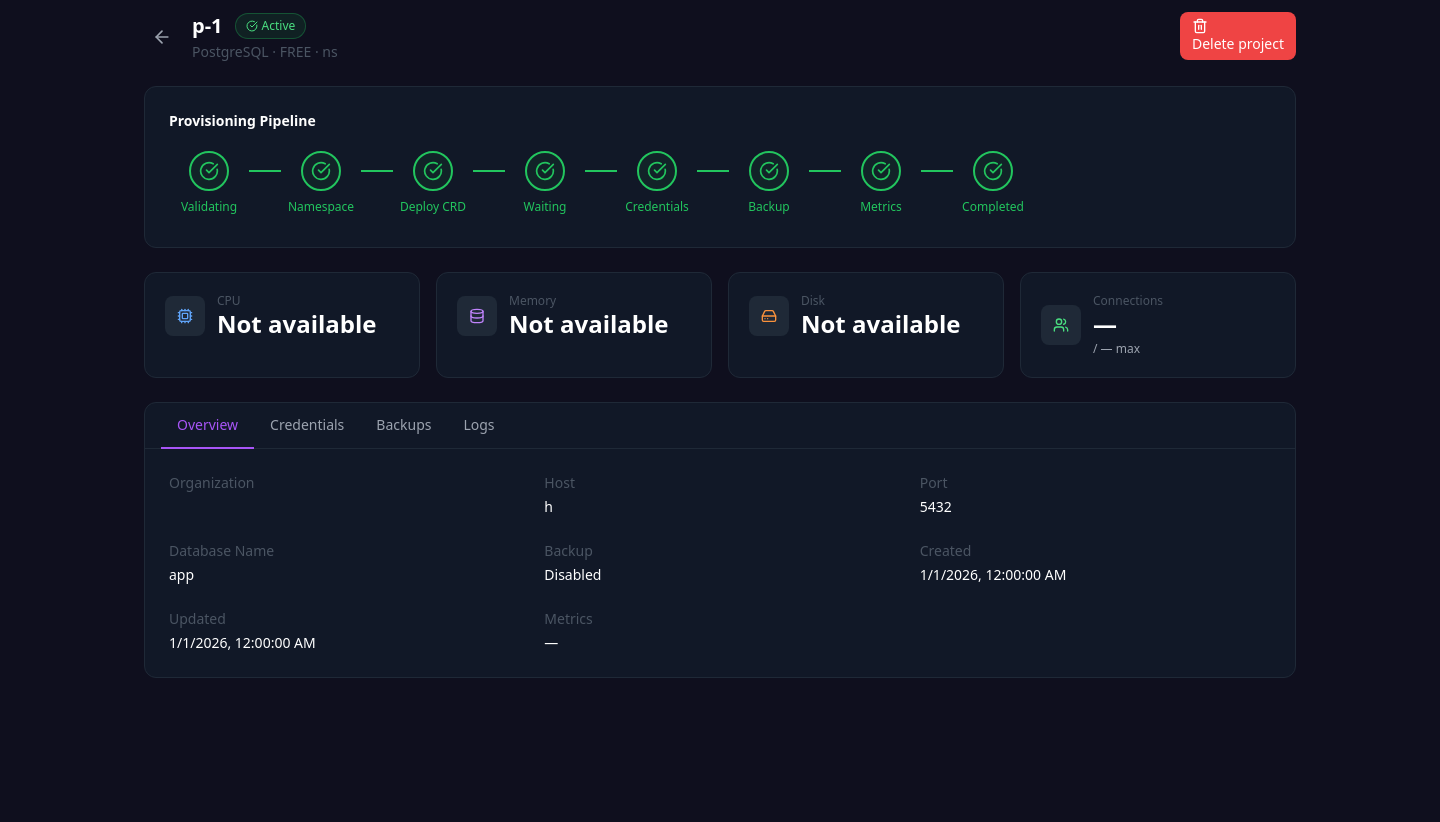
Test: InstanceDetailPage — trigger backup › a refused backup shows the server's reason
This screenshot has width=1440, height=822.
Click the button "backups": x=404, y=426 [360,403,447,449]
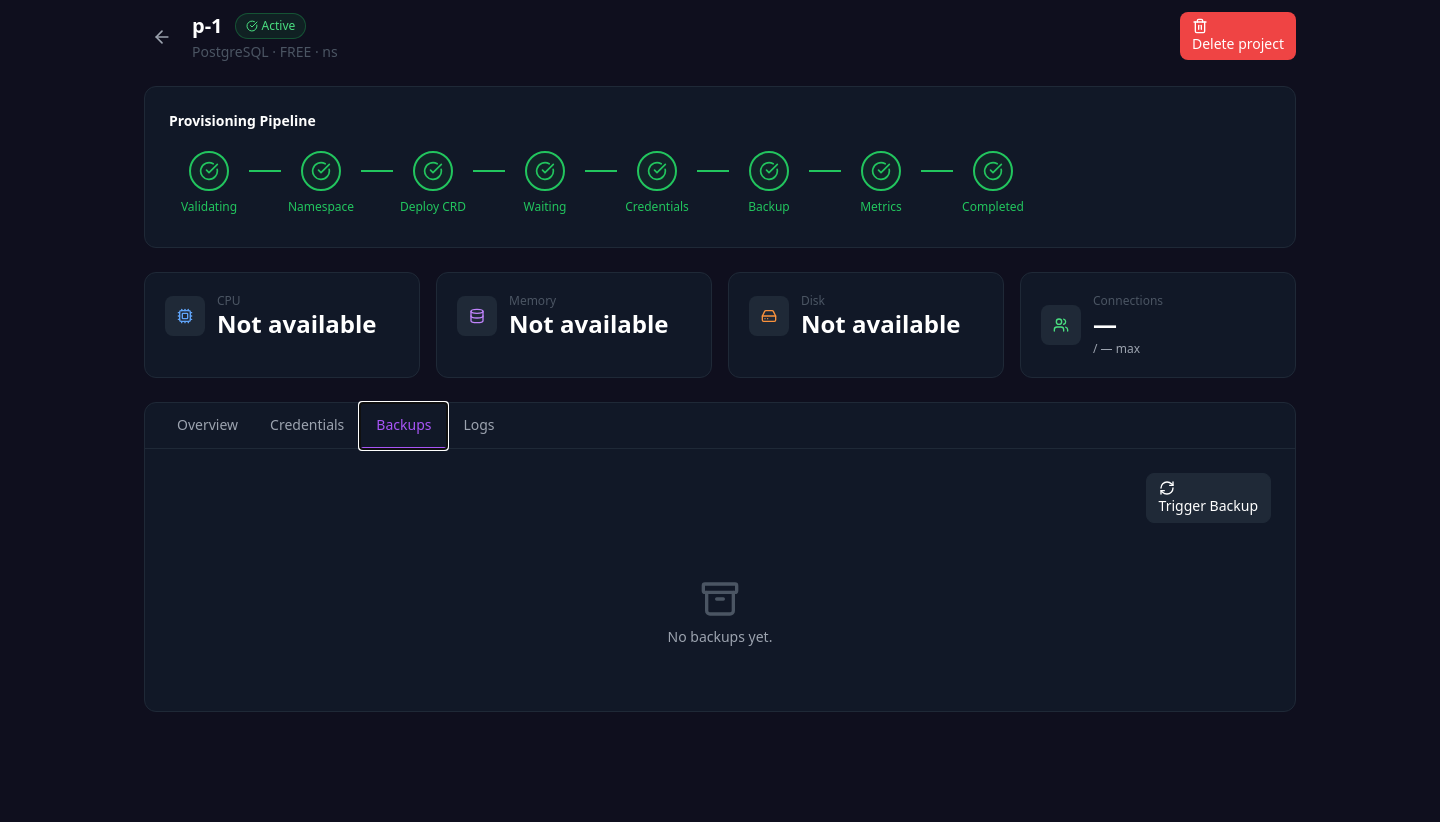
Click the button "Trigger Backup": x=1208, y=498 [1146,473,1271,523]
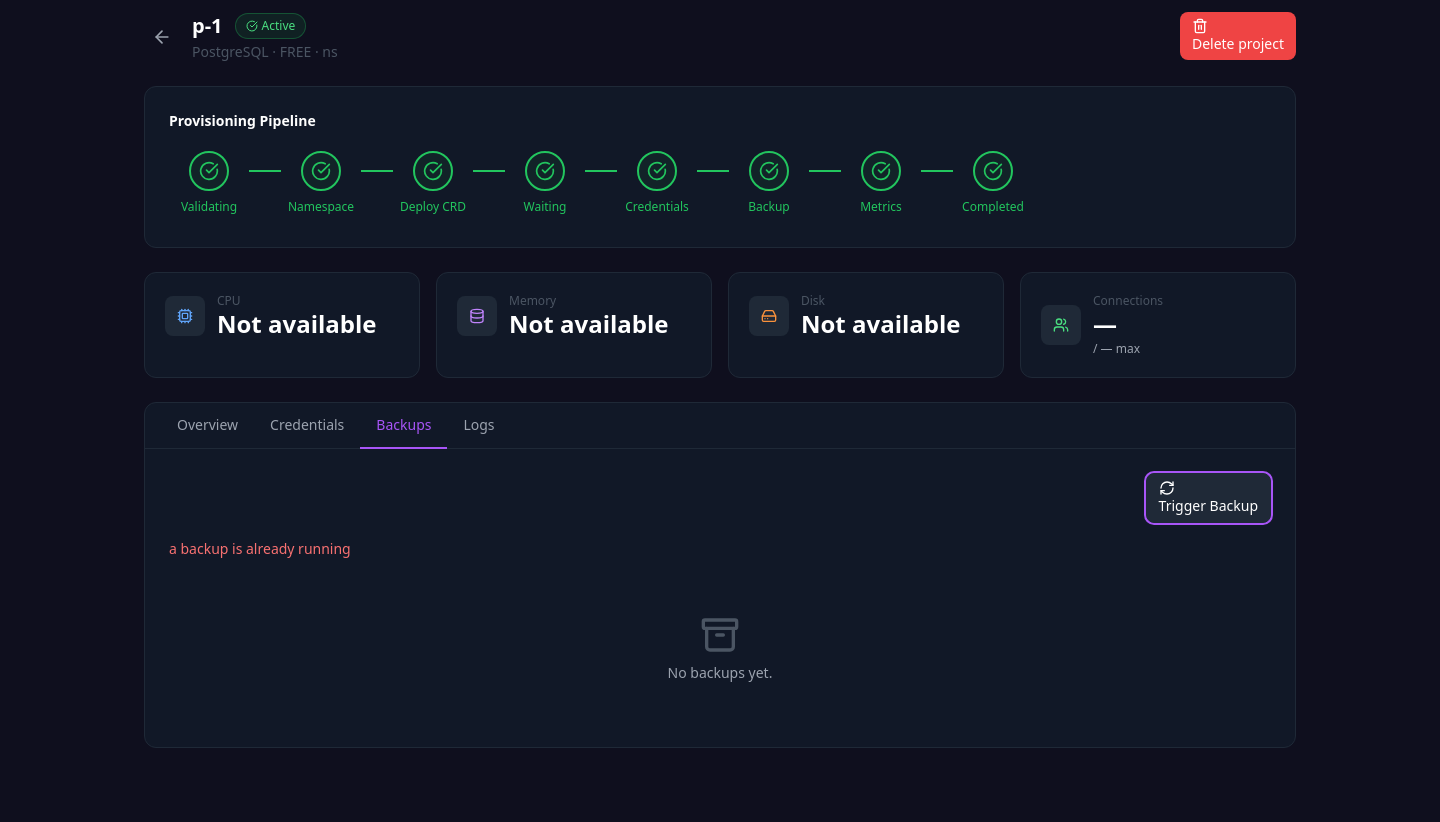
Result: the message with test id "backup-trigger-result" reads "a backup is already running" at [169,539,351,558]
